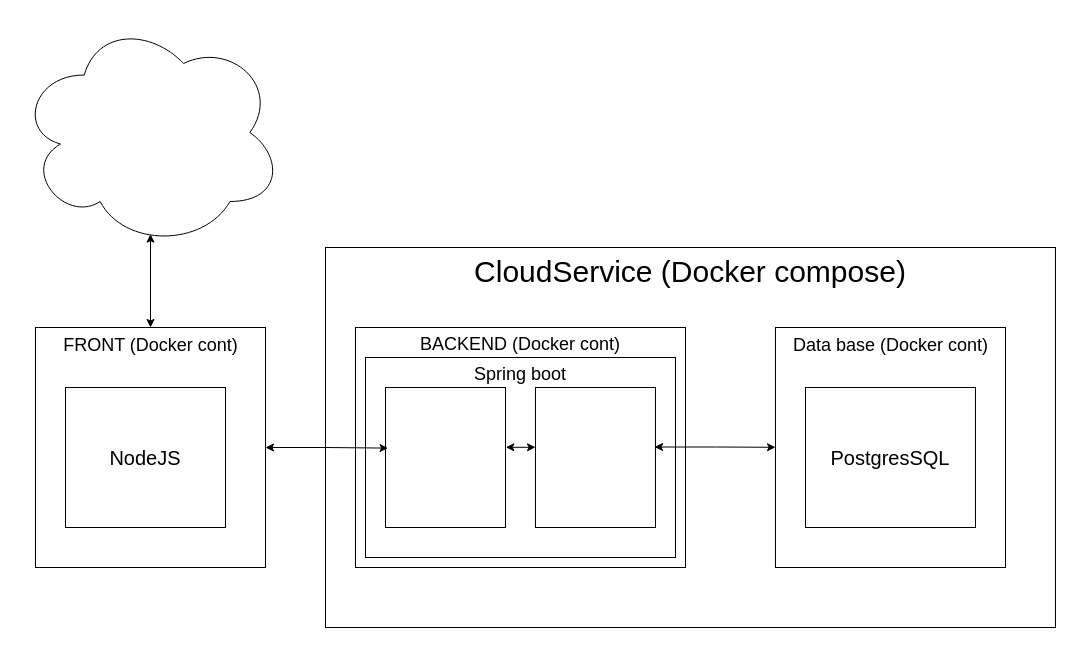
Some shapes in this 1073 by 645 pixel diagram are drawn without their labels. Each missing label, with the centre of its shape:
API: the point at 445,457
APP Logic: the point at 595,457
Интернет: the point at 150,132
